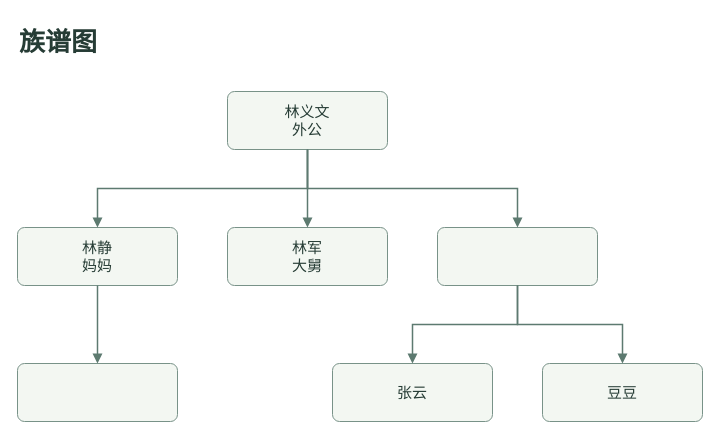
The diagram is 720 pixels wide and 439 high, and some of its shapes have lost their labels. Each missing label, with the box of its shape:
林芳 小姨、阿芳: (436, 226, 598, 286)
阿嘉: (16, 362, 178, 422)
